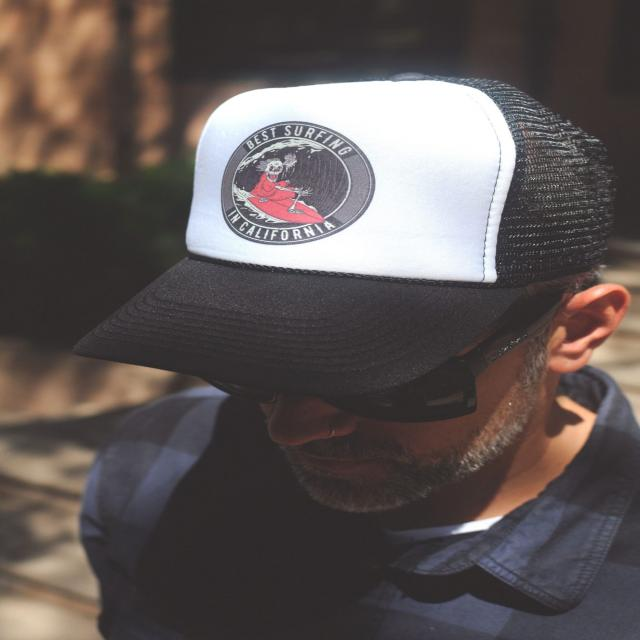cap: (55, 63, 640, 524)
